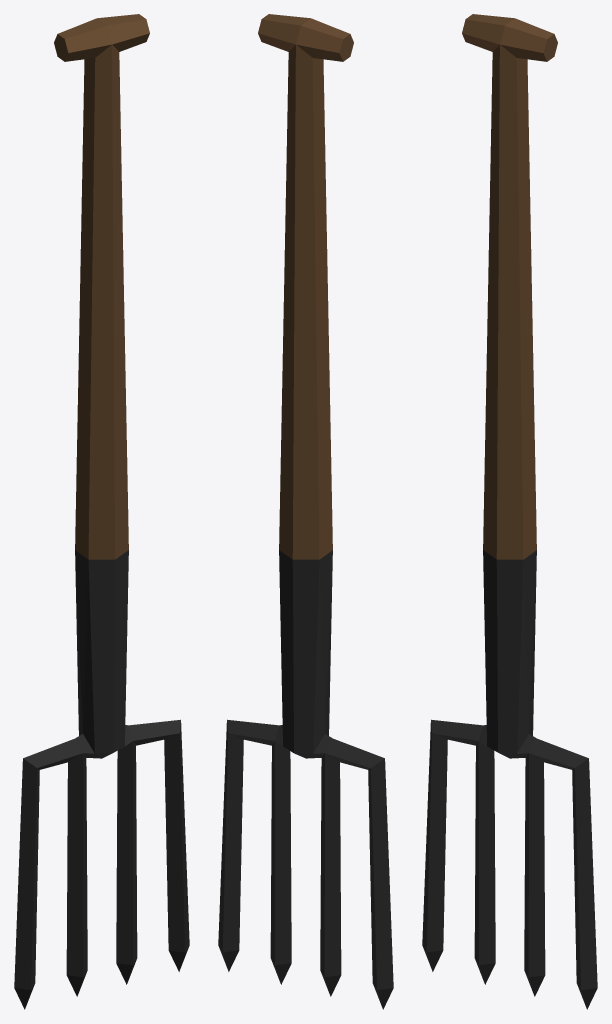
File: tools-pitchfork.glb
3 renders of one model, left to right at view 1: azimuth 30°, elevation 25°; view 2: azimuth 150°, elevation 25°; view 3: azimuth 330°, elevation 25°, orthographic.
Parts seen in each view (by area): view 1: pitchfork; view 2: pitchfork; view 3: pitchfork.
Boxes of the visible parts, x1,y1,x2,y2 form: pitchfork: [14, 14, 189, 1009]; pitchfork: [218, 14, 393, 1009]; pitchfork: [422, 14, 597, 1009].
Size of the model in its own units: 0.2797 by 1.48 by 0.0729.
